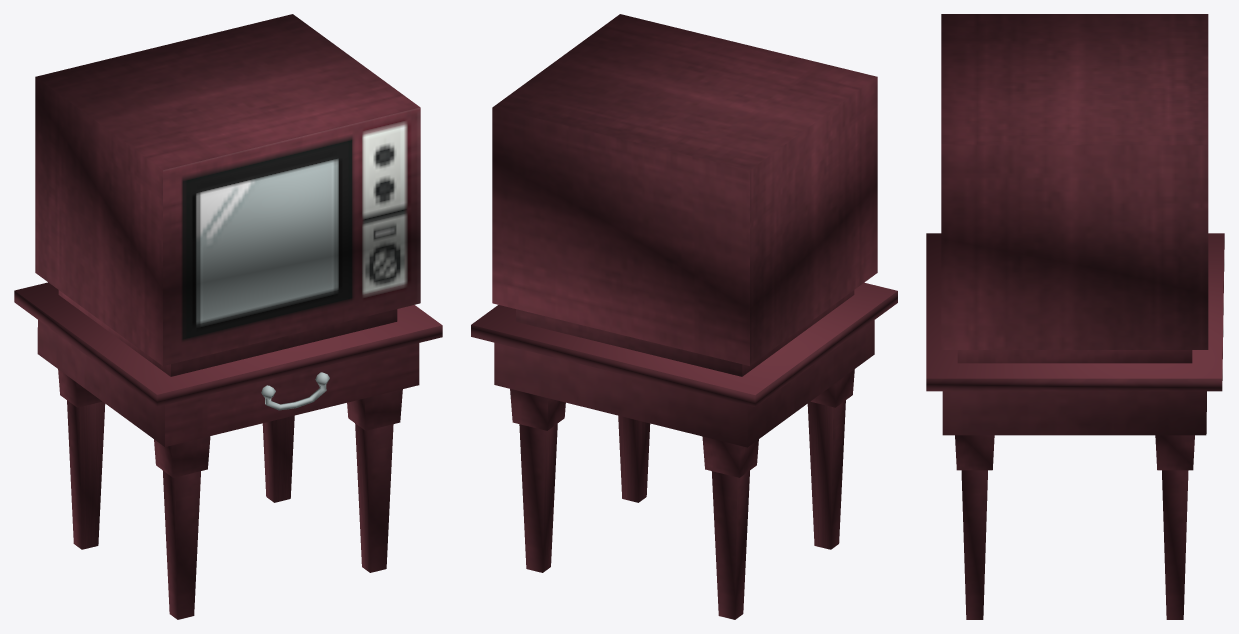
The picture shows the model from 3 angles, left to right: view 1: azimuth 30°, elevation 25°; view 2: azimuth 150°, elevation 25°; view 3: azimuth 270°, elevation 25°; orthographic projection. The views are drawn at different scales.
Parts seen in each view (by area): view 1: tv; view 2: tv; view 3: tv.
Part boxes in pixels (box(x1,y1,x2,y2)): tv: box(14, 14, 442, 619); tv: box(471, 14, 897, 619); tv: box(926, 14, 1224, 619).
Bounding box in the file's own units: 43.25 × 67.32 × 37.43.
